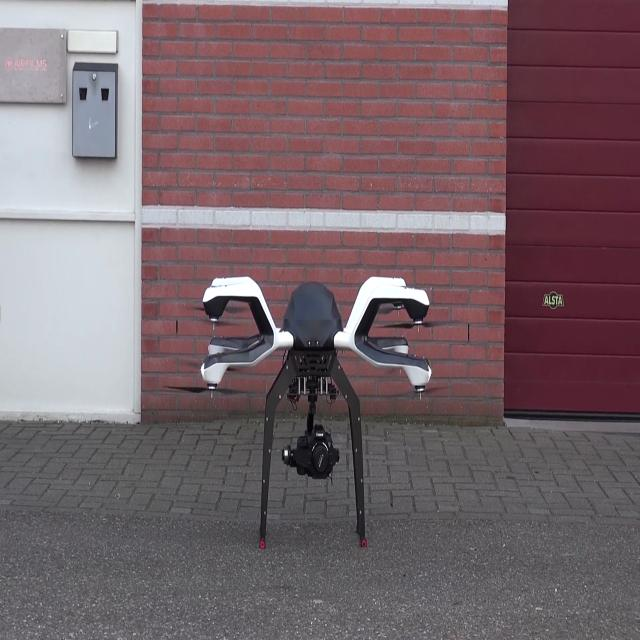drone: (185, 237, 448, 549)
